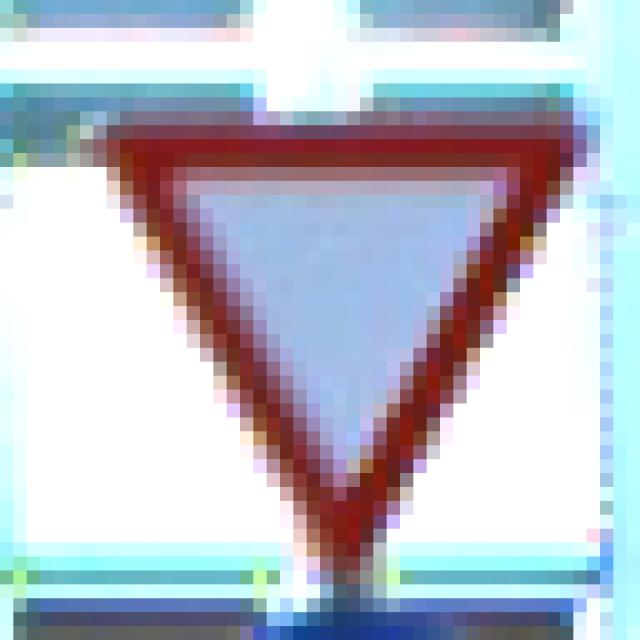Give Way: (81, 85, 574, 558)
